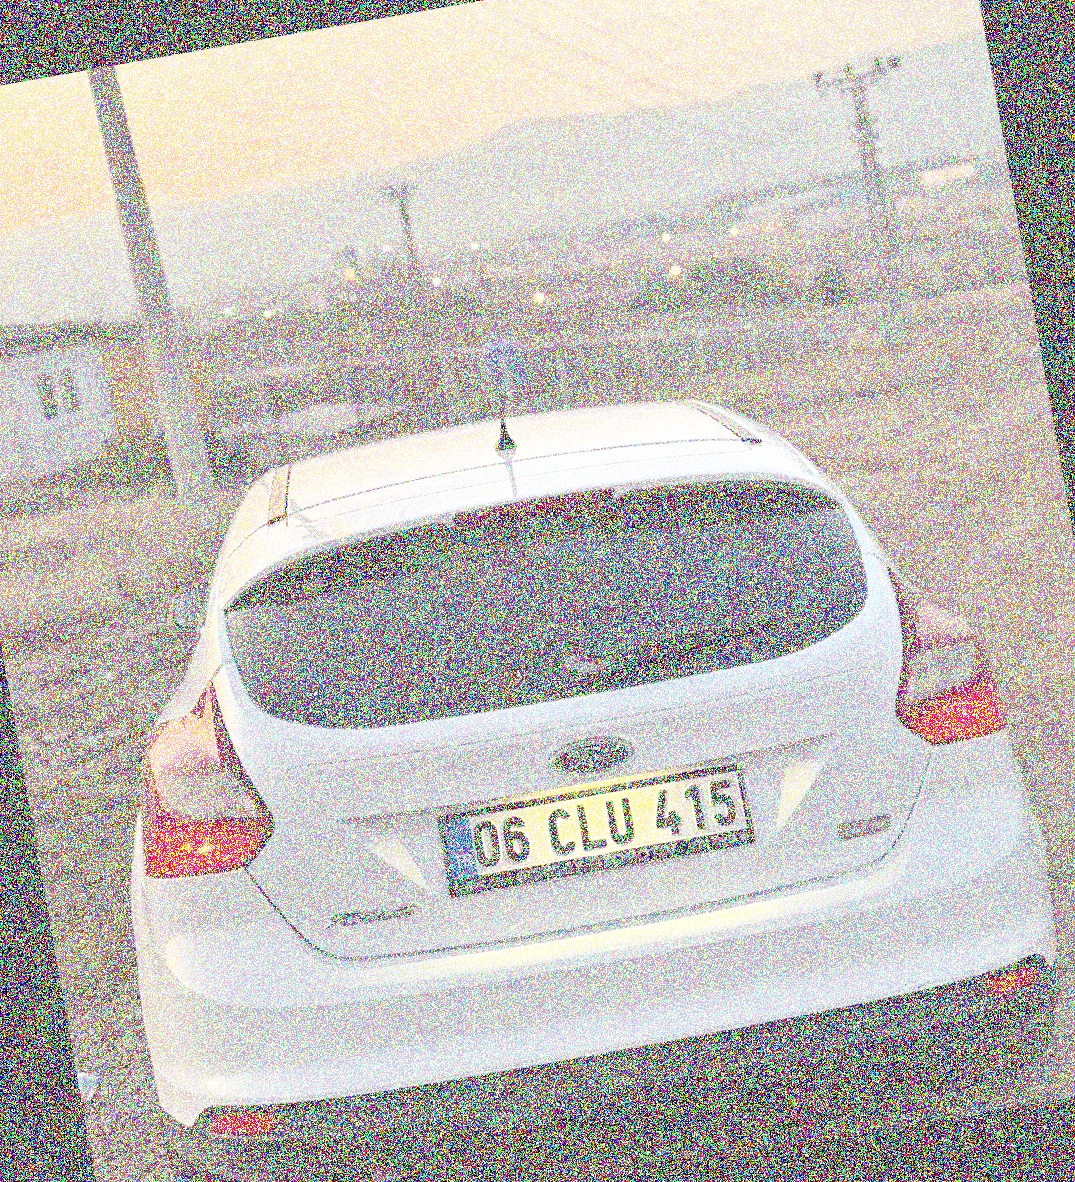plaka: (466, 767, 764, 878)
